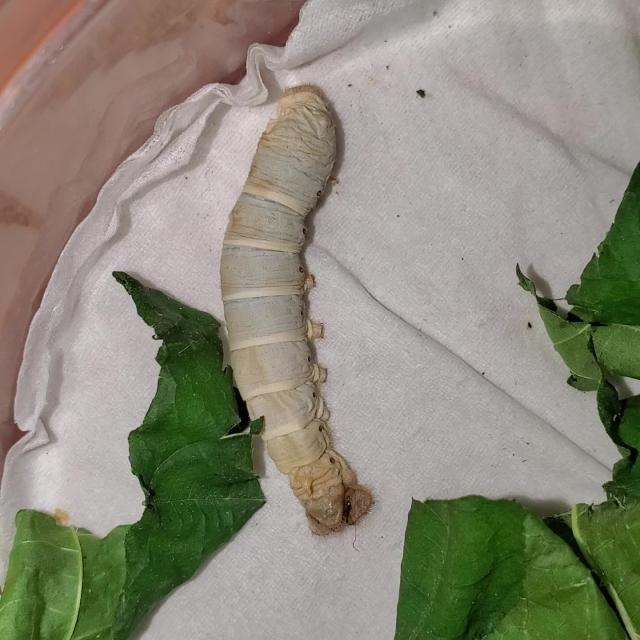Grasserie: (169, 54, 467, 556)
